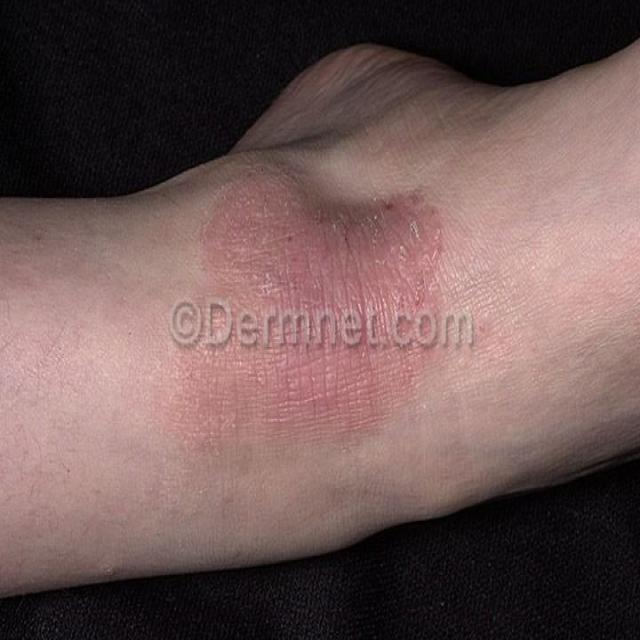Eczema: (159, 161, 458, 472)
